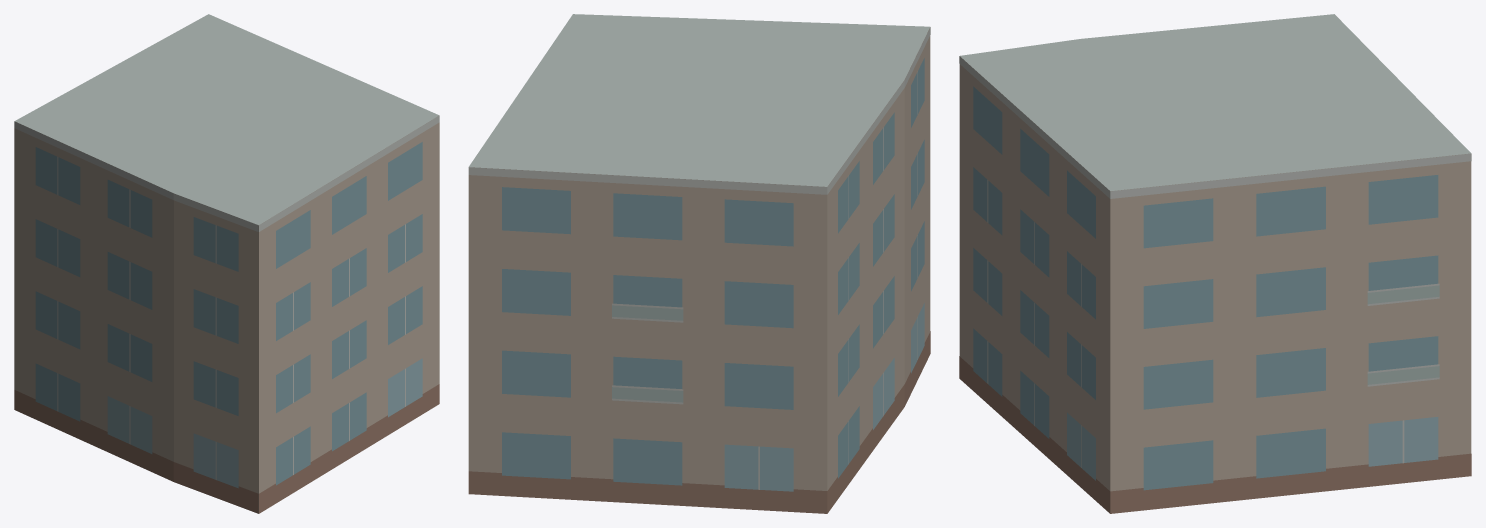
File: survey-upis-33034185.glb
3 renders of one model, left to right at view 1: azimuth 30°, elevation 25°; view 2: azimuth 150°, elevation 25°; view 3: azimuth 270°, elevation 25°, orthographic. The views are drawn at different scales.
Visible parts, largest first — view 1: survey-upis-33034185.tmp; view 2: survey-upis-33034185.tmp; view 3: survey-upis-33034185.tmp.
Part boxes in pixels (box(x1,y1,x2,y2)): survey-upis-33034185.tmp: box(14, 14, 439, 513); survey-upis-33034185.tmp: box(468, 14, 930, 513); survey-upis-33034185.tmp: box(959, 14, 1471, 513).
Size of the model in its own units: 11.91 by 10.1 by 14.53.
